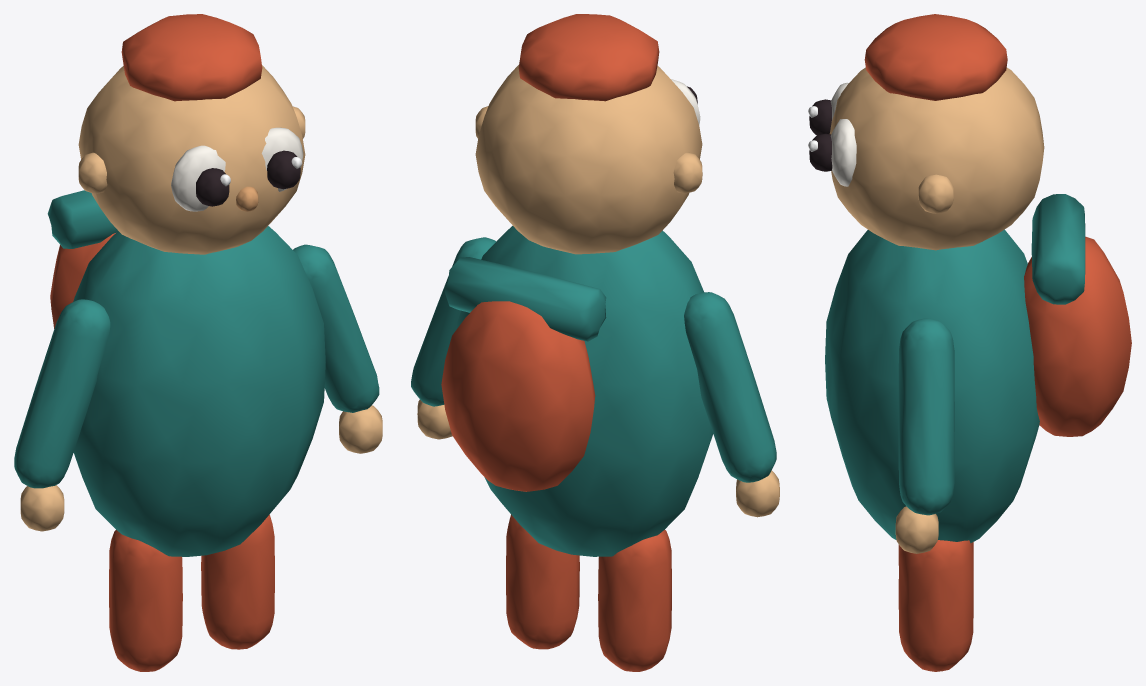
The model's file is npc_juno.glb.
3 renders of one model, left to right at view 1: azimuth 30°, elevation 25°; view 2: azimuth 150°, elevation 25°; view 3: azimuth 270°, elevation 25°, orthographic.
Parts seen in each view (by area): view 1: npc_juno_part_2, npc_juno_part_7, npc_juno_part_3, npc_juno_part_19, npc_juno_part_0, npc_juno_part_1, npc_juno_part_5, npc_juno_part_18, npc_juno_part_17, npc_juno_part_8, npc_juno_part_4, npc_juno_part_6 (+4 smaller); view 2: npc_juno_part_2, npc_juno_part_7, npc_juno_part_17, npc_juno_part_3, npc_juno_part_19, npc_juno_part_0, npc_juno_part_1, npc_juno_part_18, npc_juno_part_5, npc_juno_part_4, npc_juno_part_6, npc_juno_part_15; view 3: npc_juno_part_2, npc_juno_part_7, npc_juno_part_17, npc_juno_part_5, npc_juno_part_19, npc_juno_part_1, npc_juno_part_18, npc_juno_part_6, npc_juno_part_11, npc_juno_part_16, npc_juno_part_12, npc_juno_part_9.
Part boxes in pixels (<box>): npc_juno_part_2: <box>73,226,325,556</box>; npc_juno_part_7: <box>78,65,305,254</box>; npc_juno_part_3: <box>14,299,110,488</box>; npc_juno_part_19: <box>121,14,262,101</box>; npc_juno_part_0: <box>109,530,182,671</box>; npc_juno_part_1: <box>201,514,274,649</box>; npc_juno_part_5: <box>293,244,379,412</box>; npc_juno_part_18: <box>47,190,117,248</box>; npc_juno_part_17: <box>50,233,115,328</box>; npc_juno_part_8: <box>171,145,225,211</box>; npc_juno_part_4: <box>20,485,64,531</box>; npc_juno_part_6: <box>339,405,382,453</box>; npc_juno_part_2: <box>456,226,713,556</box>; npc_juno_part_7: <box>475,65,702,254</box>; npc_juno_part_17: <box>441,301,595,491</box>; npc_juno_part_3: <box>684,292,776,482</box>; npc_juno_part_19: <box>518,14,659,101</box>; npc_juno_part_0: <box>598,530,671,671</box>; npc_juno_part_1: <box>506,514,579,649</box>; npc_juno_part_18: <box>444,257,606,341</box>; npc_juno_part_5: <box>411,237,496,406</box>; npc_juno_part_4: <box>736,470,779,517</box>; npc_juno_part_6: <box>417,399,452,439</box>; npc_juno_part_15: <box>673,152,702,193</box>; npc_juno_part_2: <box>825,229,1039,543</box>; npc_juno_part_7: <box>829,67,1044,250</box>; npc_juno_part_17: <box>1024,236,1131,436</box>; npc_juno_part_5: <box>898,318,954,515</box>; npc_juno_part_19: <box>864,14,1007,100</box>; npc_juno_part_1: <box>898,540,973,671</box>; npc_juno_part_18: <box>1031,194,1085,304</box>; npc_juno_part_6: <box>895,506,938,553</box>; npc_juno_part_11: <box>830,119,856,186</box>; npc_juno_part_16: <box>918,174,953,213</box>; npc_juno_part_12: <box>809,133,832,171</box>; npc_juno_part_9: <box>809,99,831,135</box>.
Size of the model in its own units: 0.8627 by 1.44 by 0.6815.
